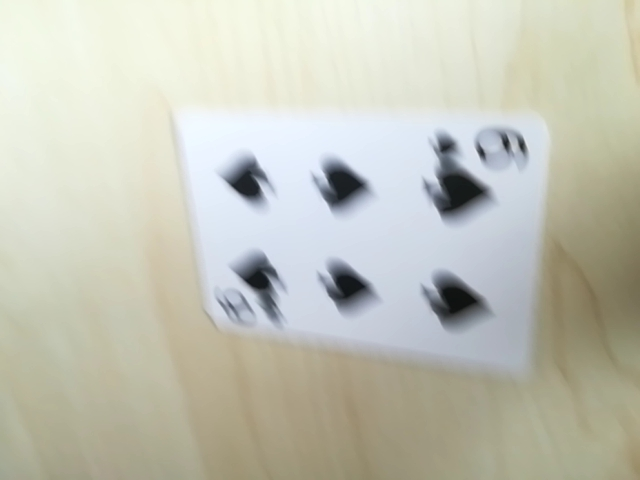ht 6: (233, 144, 513, 344), (434, 122, 536, 166)
